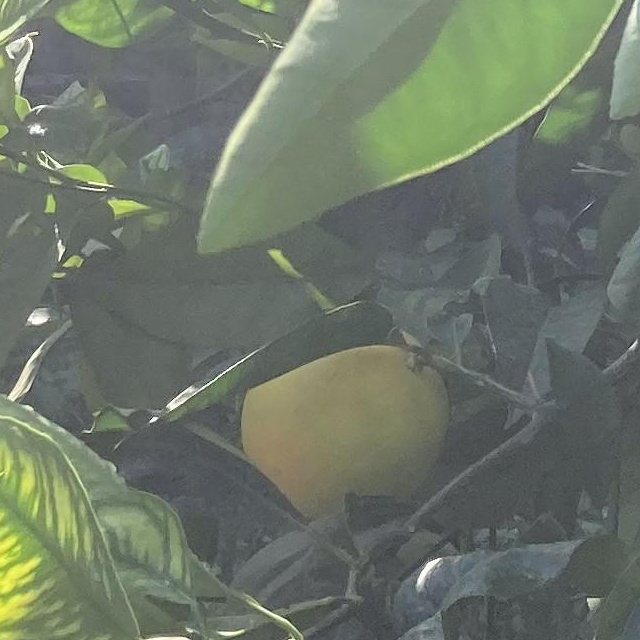orange: (227, 335, 471, 515)
